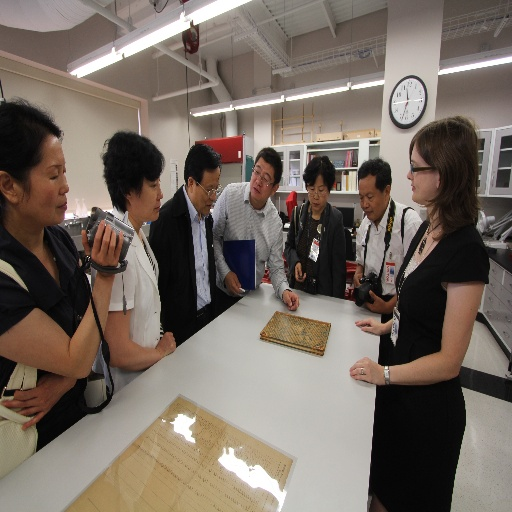hand: (0, 370, 76, 429), (81, 218, 123, 266), (349, 353, 380, 385), (355, 316, 384, 335), (364, 290, 386, 313), (223, 269, 243, 294), (156, 329, 175, 355), (281, 289, 300, 310), (293, 260, 306, 283), (352, 273, 363, 287)
